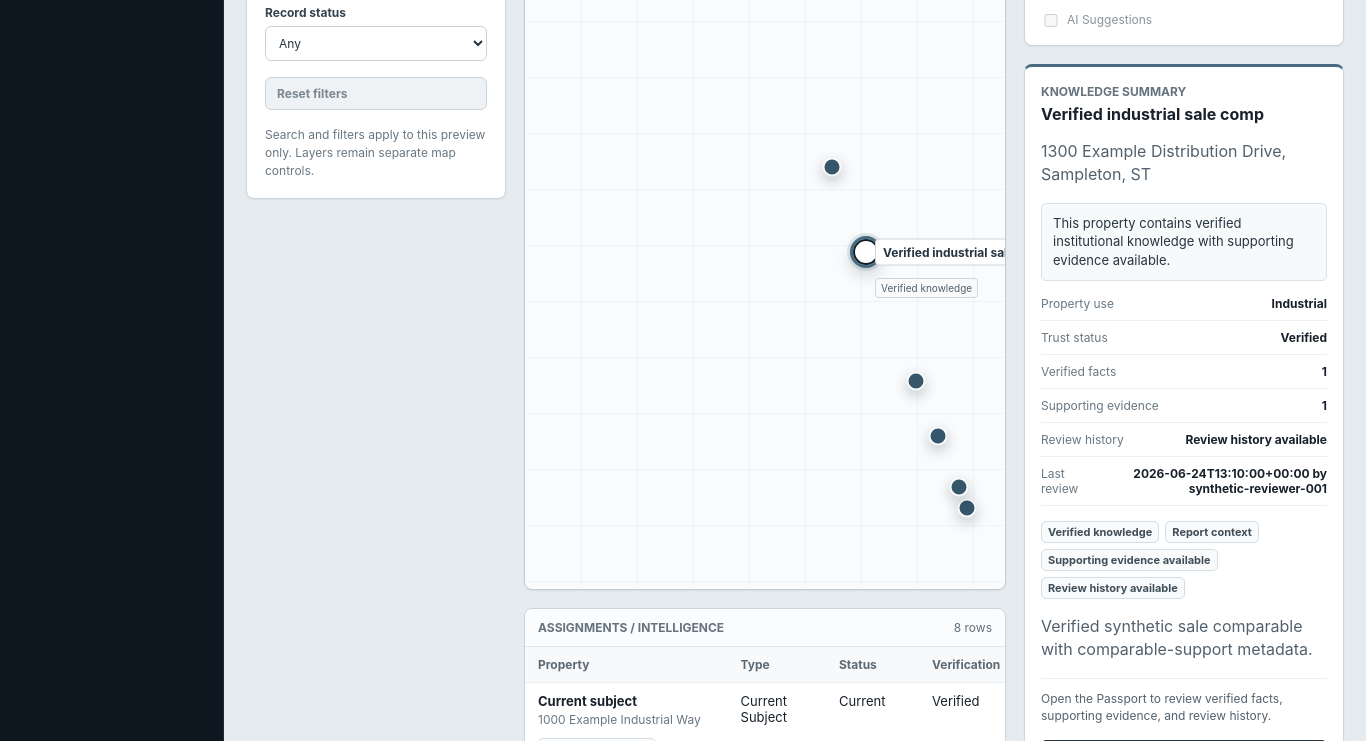
it: IntelligenceWorkspacePreview › selects a table row when its marker is clicked and updates the Knowledge Summary
This screenshot has width=1366, height=741.
(page scrolled)
Click the button named "Select Completed logistics assignment" at [916, 381], box [907,371,926,390]
(page scrolled)
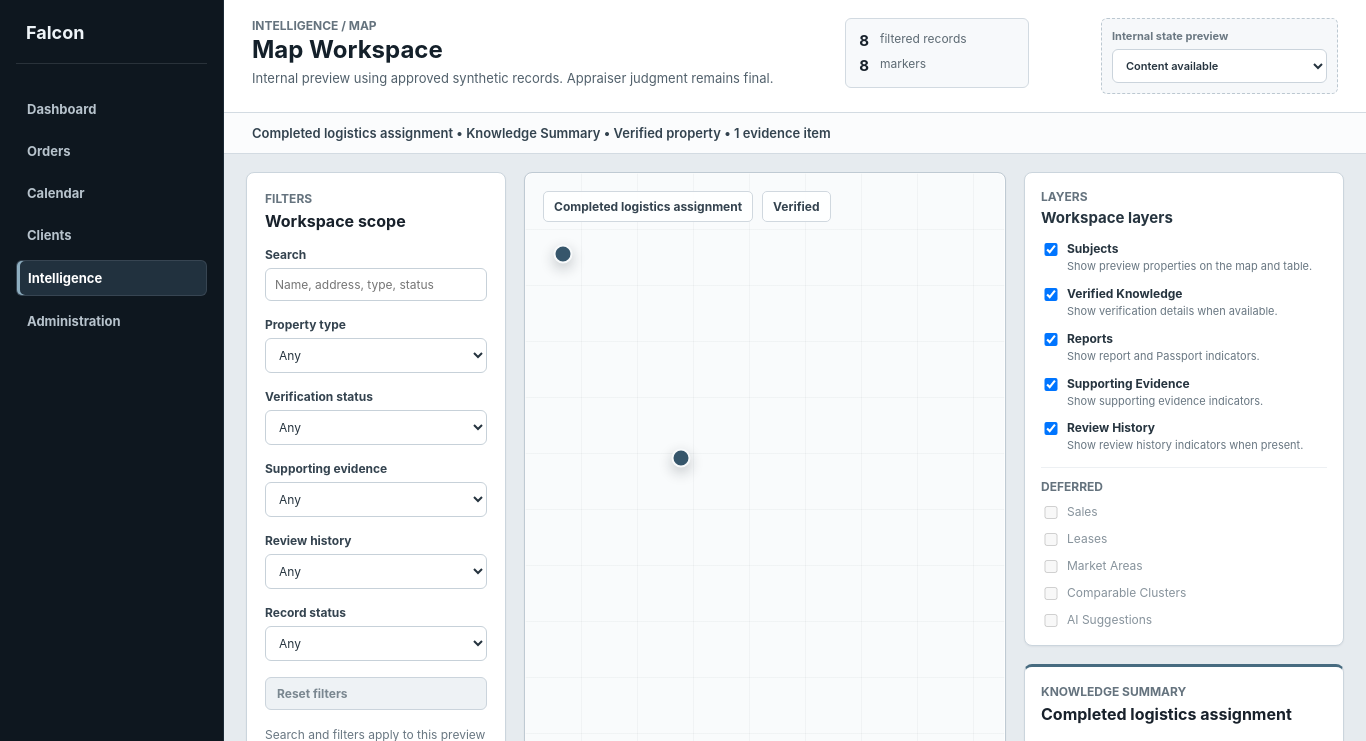
Expected: the heading "Completed logistics assignment" is shown, [1041,704,1327,724]
Expected: the message named "Knowledge context" shows "Completed logistics assignment • Knowledge Summary • Verified property • 1 evidence item", [252,125,831,141]
